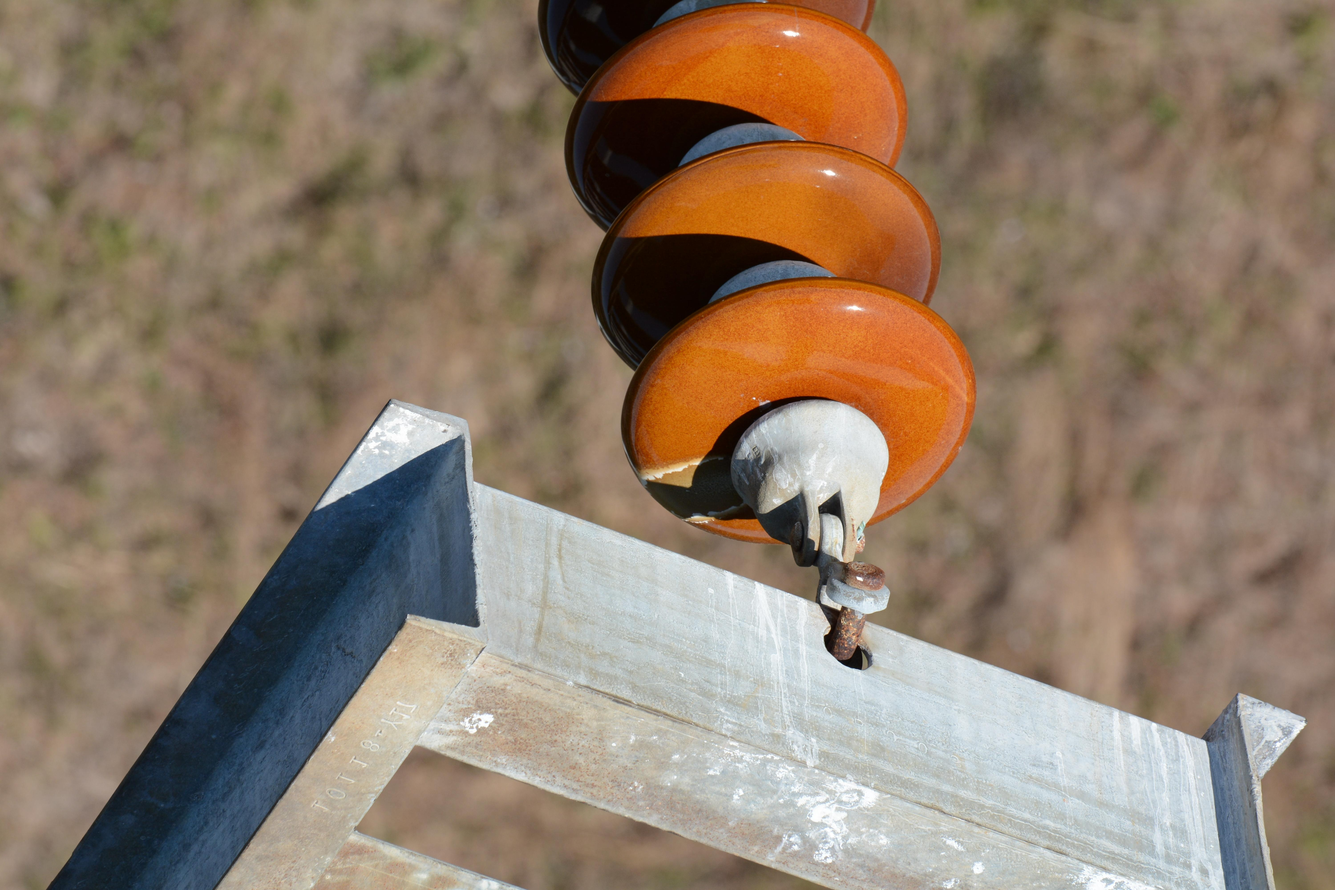Flashover: (646, 441, 768, 523)
insulator: (535, 0, 973, 540)
